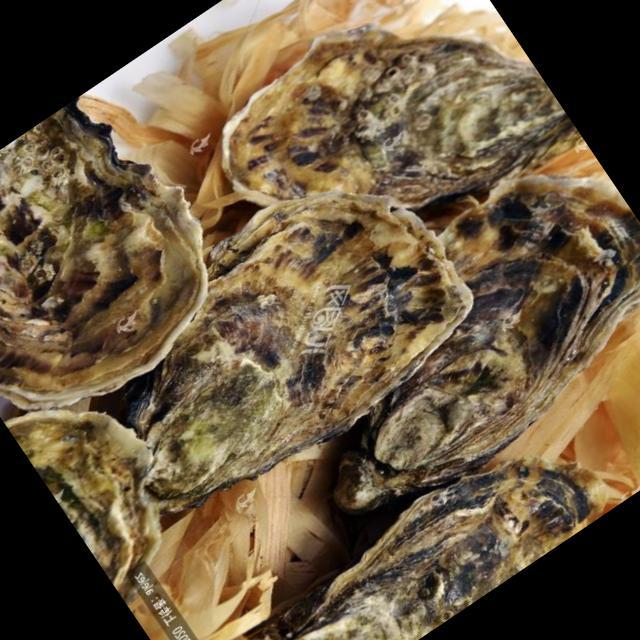Oyster- Indeterminate: (56, 132, 503, 536), (237, 127, 640, 545), (183, 0, 579, 312), (0, 72, 265, 457), (198, 404, 621, 640), (1, 356, 222, 608)
